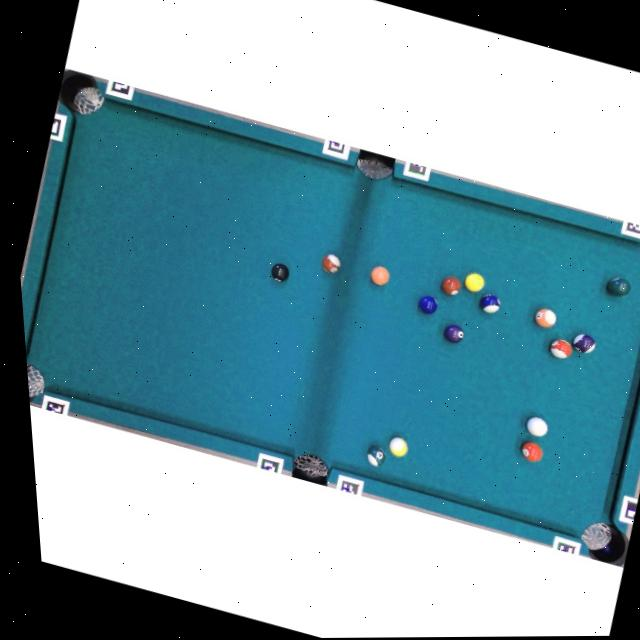cue ball: (524, 415, 551, 439)
other: (546, 336, 575, 361), (604, 274, 632, 299), (531, 305, 559, 330), (570, 331, 598, 356), (363, 443, 388, 469), (518, 440, 545, 464), (461, 270, 487, 294), (477, 291, 503, 315), (268, 260, 292, 284), (415, 293, 440, 316), (441, 322, 466, 345), (386, 435, 411, 458), (367, 264, 392, 287), (319, 252, 343, 275), (439, 274, 463, 297)
